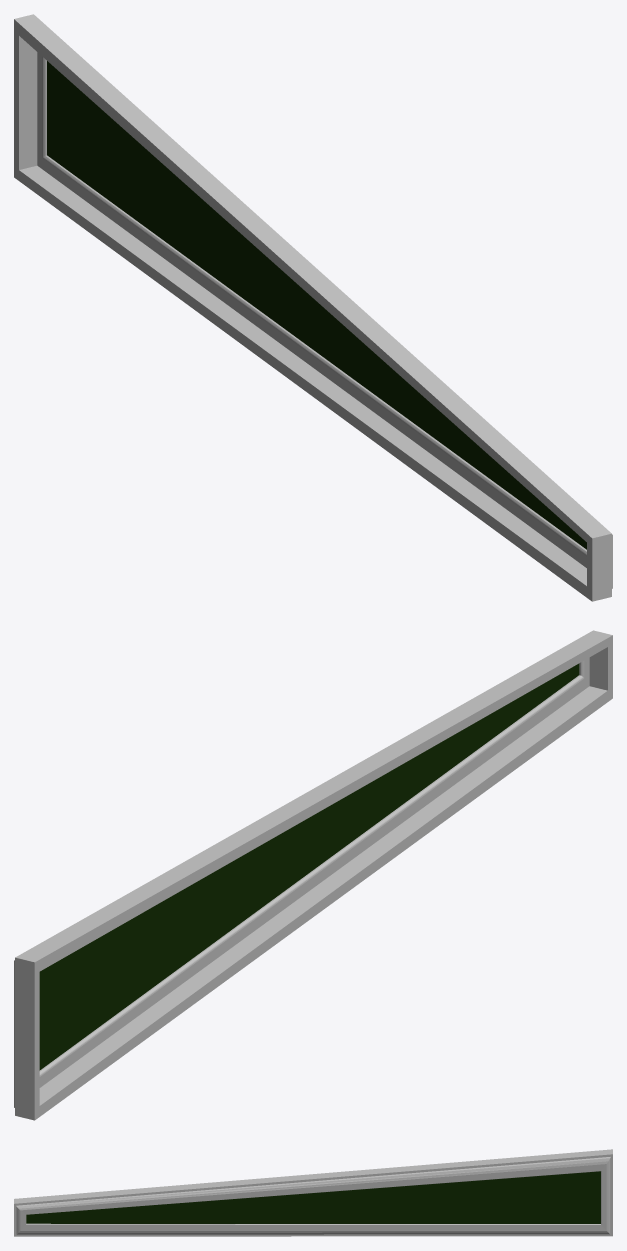
Rendered from timpano.fbx.
3 renders of one model, top to bottom at view 1: azimuth 30°, elevation 25°; view 2: azimuth 150°, elevation 25°; view 3: azimuth 270°, elevation 25°, orthographic. The views are drawn at different scales.
Visible parts, largest first — view 1: Empty_Mesh; view 2: Empty_Mesh; view 3: Empty_Mesh.
Part boxes in pixels (box(x1,y1,x2,y2)): Empty_Mesh: box(14, 14, 612, 601); Empty_Mesh: box(14, 630, 612, 1120); Empty_Mesh: box(14, 1149, 612, 1236).
Size of the model in its own units: 7.29 by 42.38 by 279.
